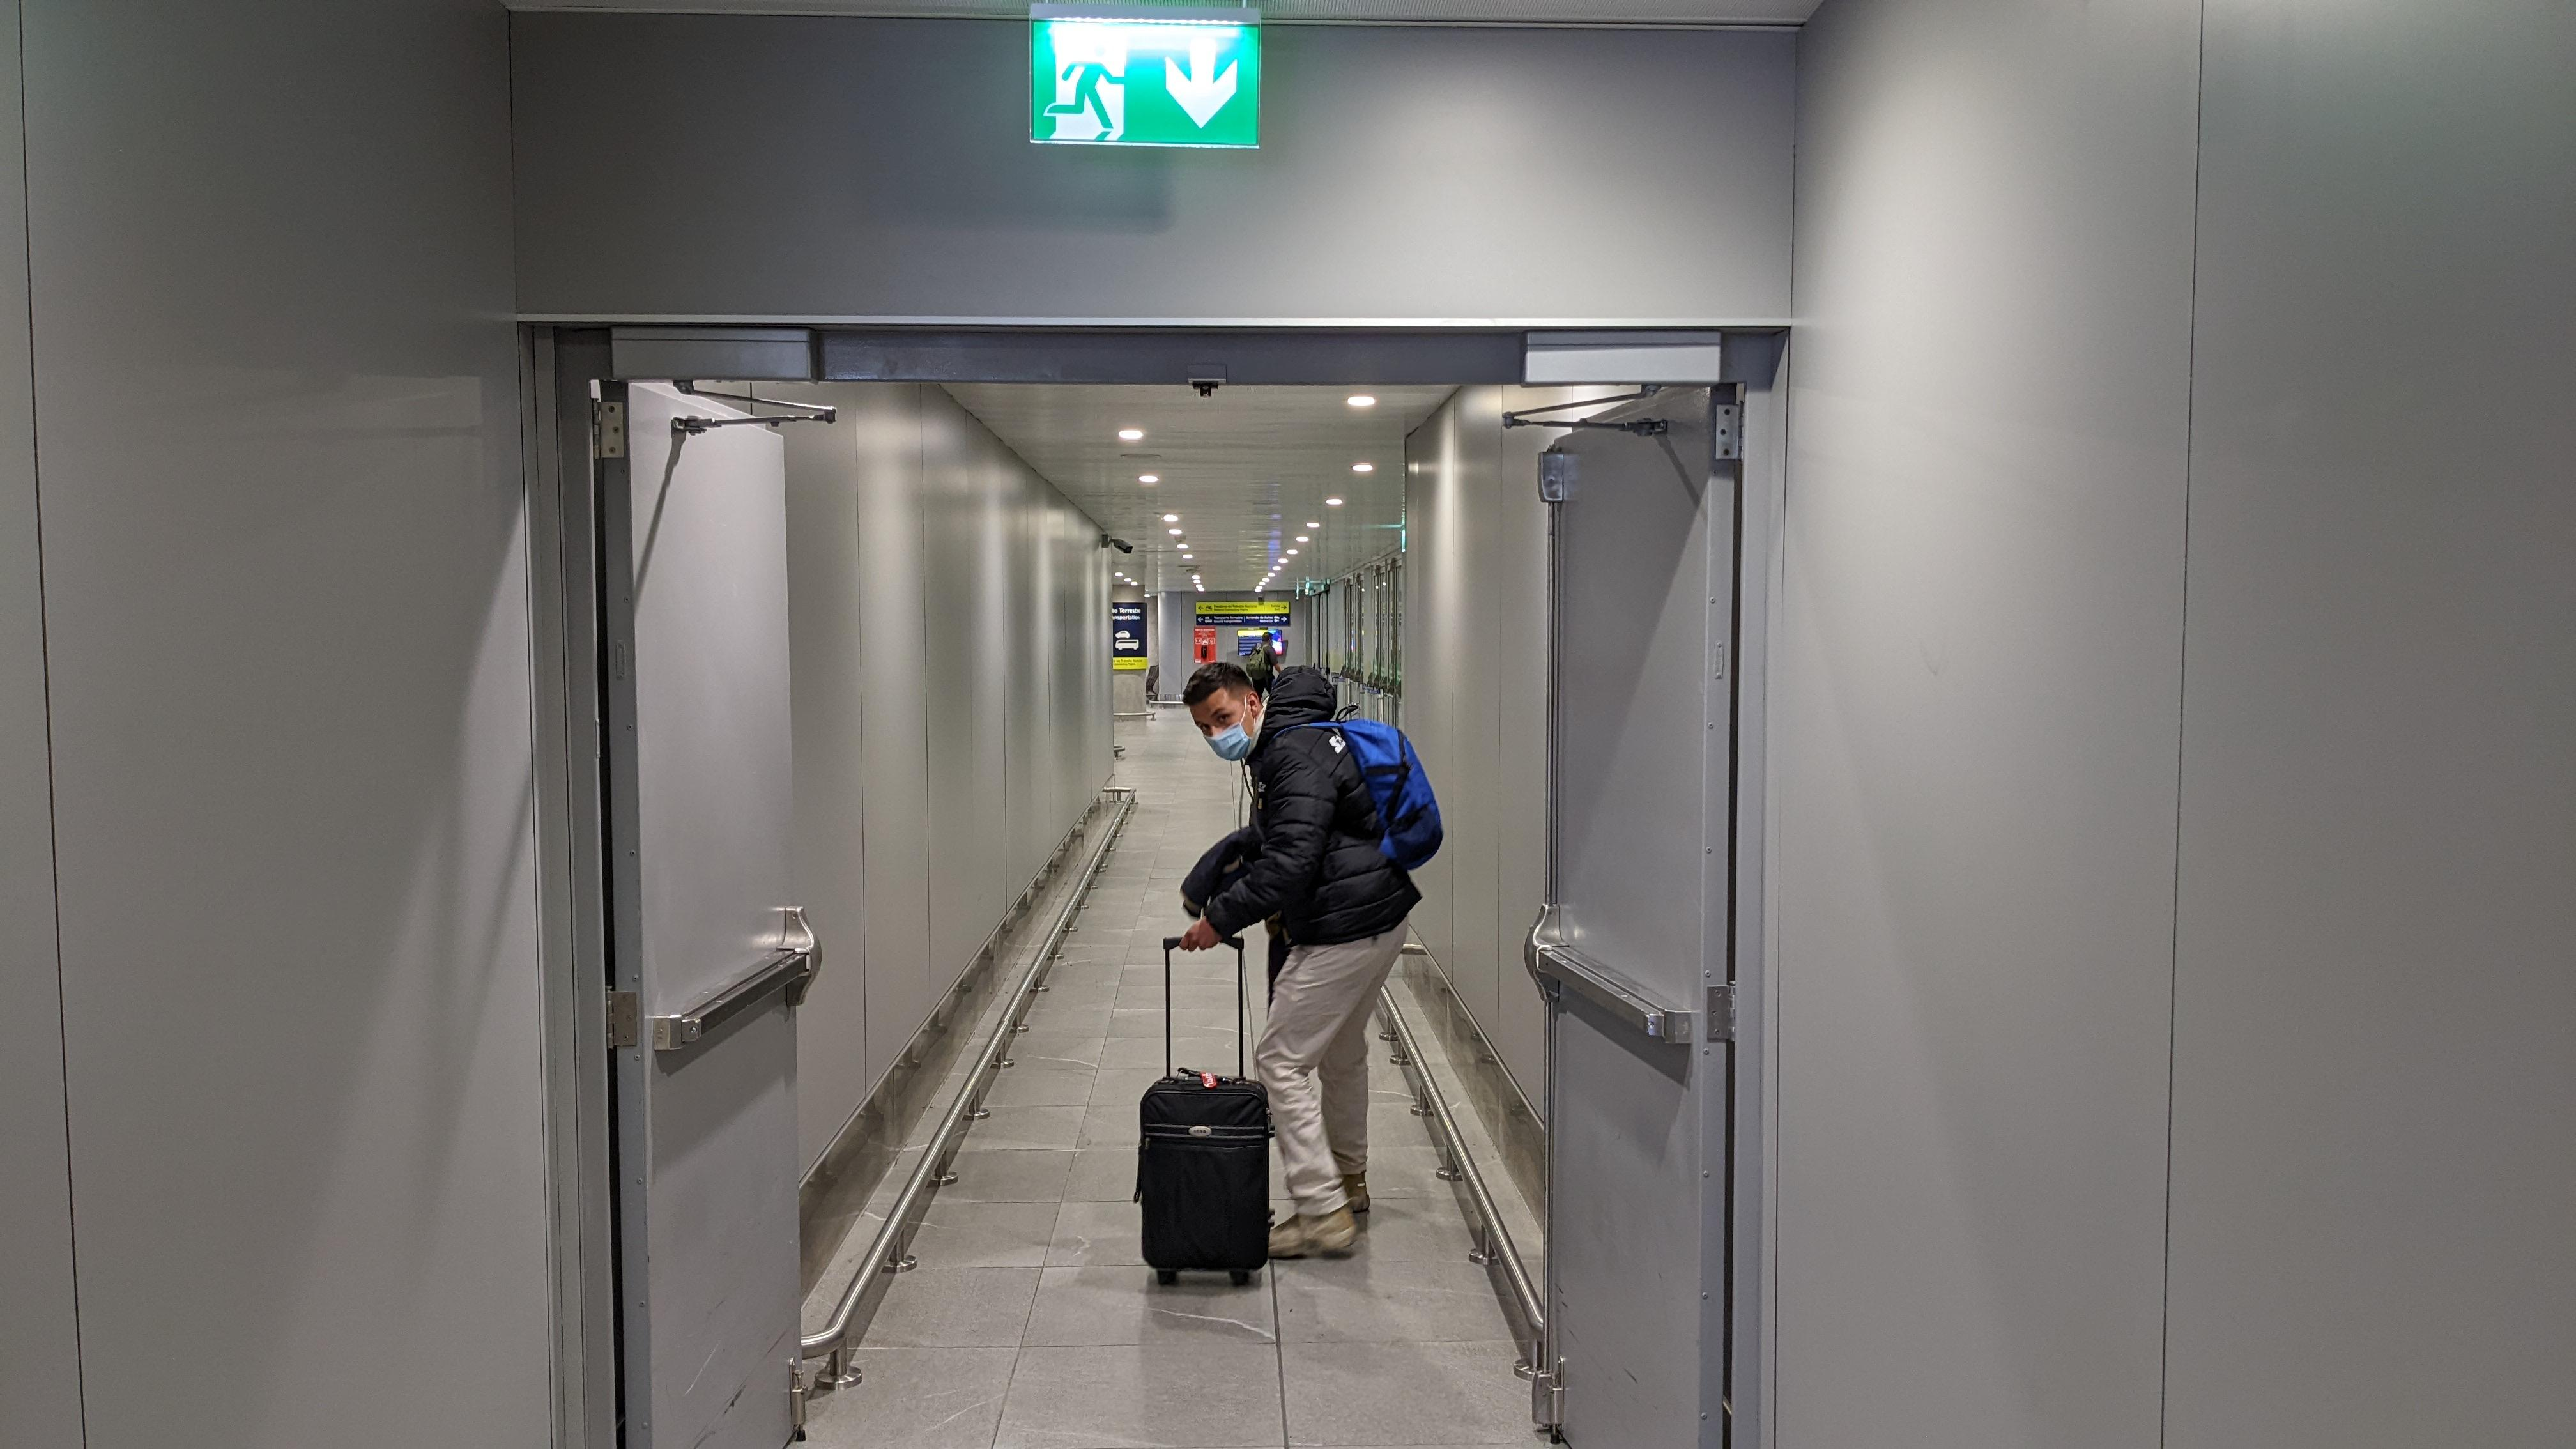emergency down arrow: (1150, 23, 1251, 140)
emergency exit: (1042, 21, 1131, 147)
